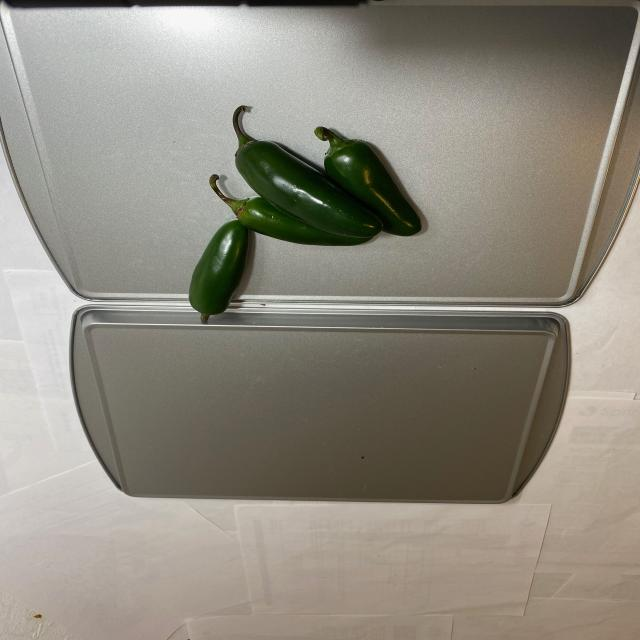chilli: (185, 107, 426, 326)
